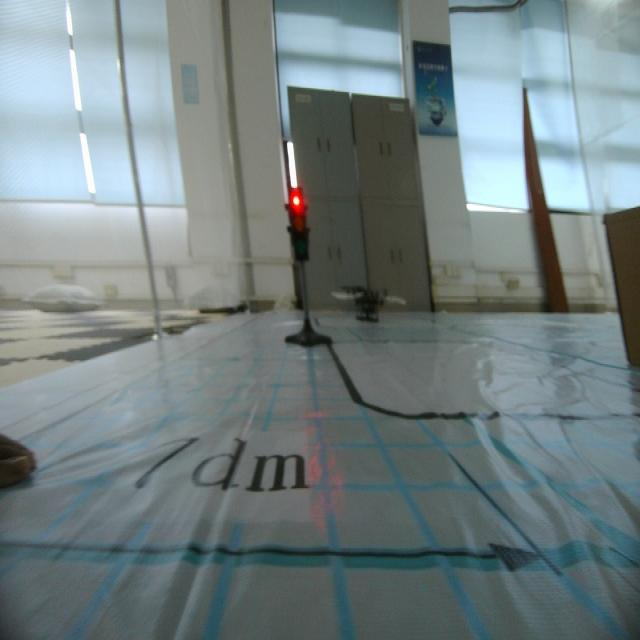red: (284, 190, 312, 268)
